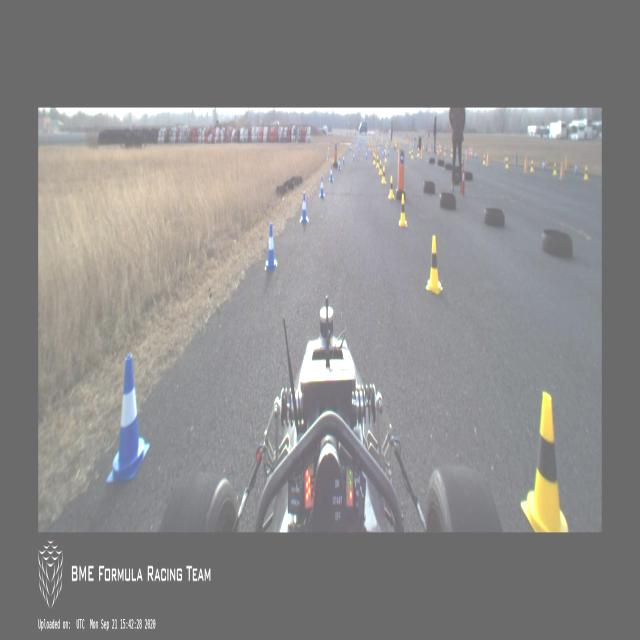blue_cone: (106, 352, 150, 486), (265, 223, 277, 270), (300, 192, 308, 223), (319, 174, 324, 198), (329, 163, 334, 183), (337, 157, 341, 171), (574, 160, 578, 174), (342, 152, 346, 164), (542, 158, 545, 170), (353, 150, 355, 162), (369, 146, 372, 154), (366, 149, 368, 160), (388, 146, 390, 156), (358, 144, 360, 154), (382, 150, 384, 158), (475, 150, 477, 158)
yellow_cone: (520, 391, 570, 532), (426, 232, 444, 296), (399, 189, 407, 229), (388, 176, 395, 200), (381, 164, 387, 187), (552, 160, 558, 178), (584, 164, 588, 182), (530, 158, 534, 174), (372, 152, 377, 164), (482, 154, 487, 166), (416, 146, 421, 158), (376, 156, 380, 170), (379, 159, 382, 176), (506, 156, 510, 168), (412, 148, 414, 160), (450, 147, 452, 158), (385, 152, 387, 162), (444, 146, 446, 156), (409, 146, 411, 154)
